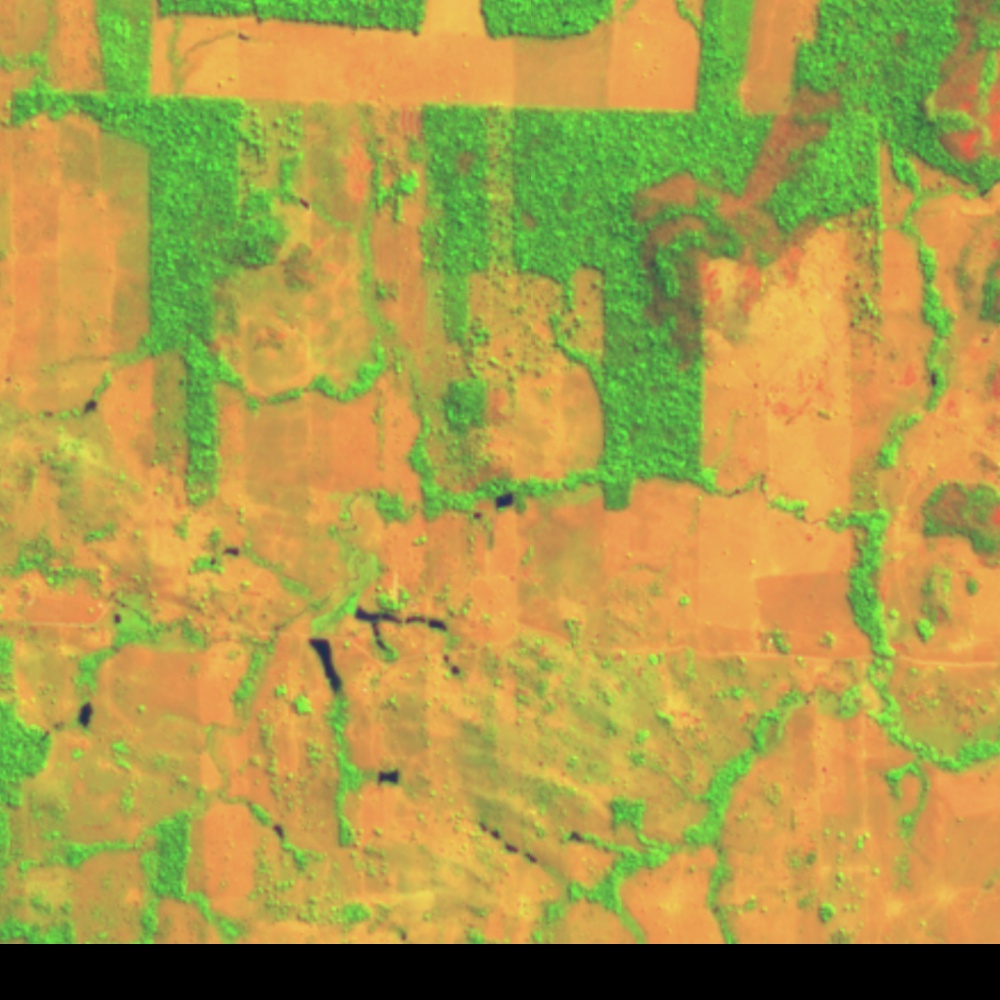illegal: (351, 603, 465, 682), (479, 823, 586, 874), (306, 633, 349, 700), (469, 485, 520, 519), (71, 699, 101, 729), (205, 545, 244, 565), (374, 767, 408, 789), (78, 393, 101, 416), (270, 823, 290, 840)
